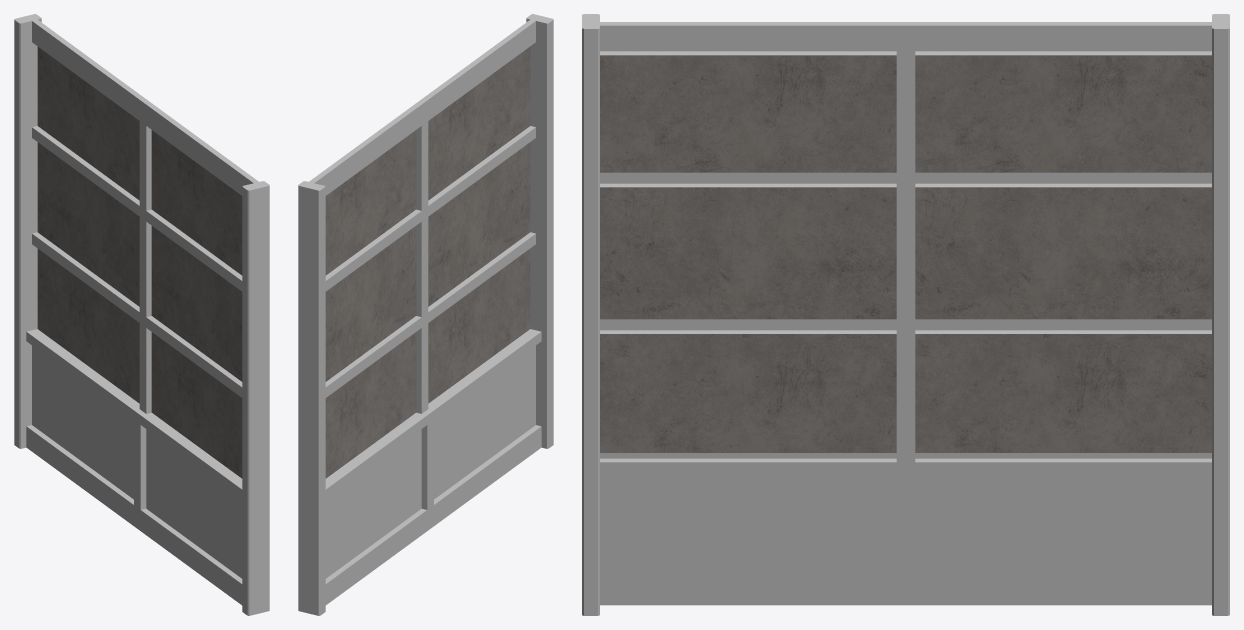
File: Wall 1 2m.fbx
3 views of the same model, side by side, from view 1: azimuth 30°, elevation 25°; view 2: azimuth 150°, elevation 25°; view 3: azimuth 270°, elevation 25° (orthographic). The views are drawn at different scales.
Visible parts, largest first — view 1: Wall_1_2m; view 2: Wall_1_2m; view 3: Wall_1_2m.
Part boxes in pixels (<box>): Wall_1_2m: <box>14,14,269,615</box>; Wall_1_2m: <box>298,14,553,615</box>; Wall_1_2m: <box>582,14,1229,615</box>.
Bounding box in the file's own units: 10.93 × 200 × 200.
